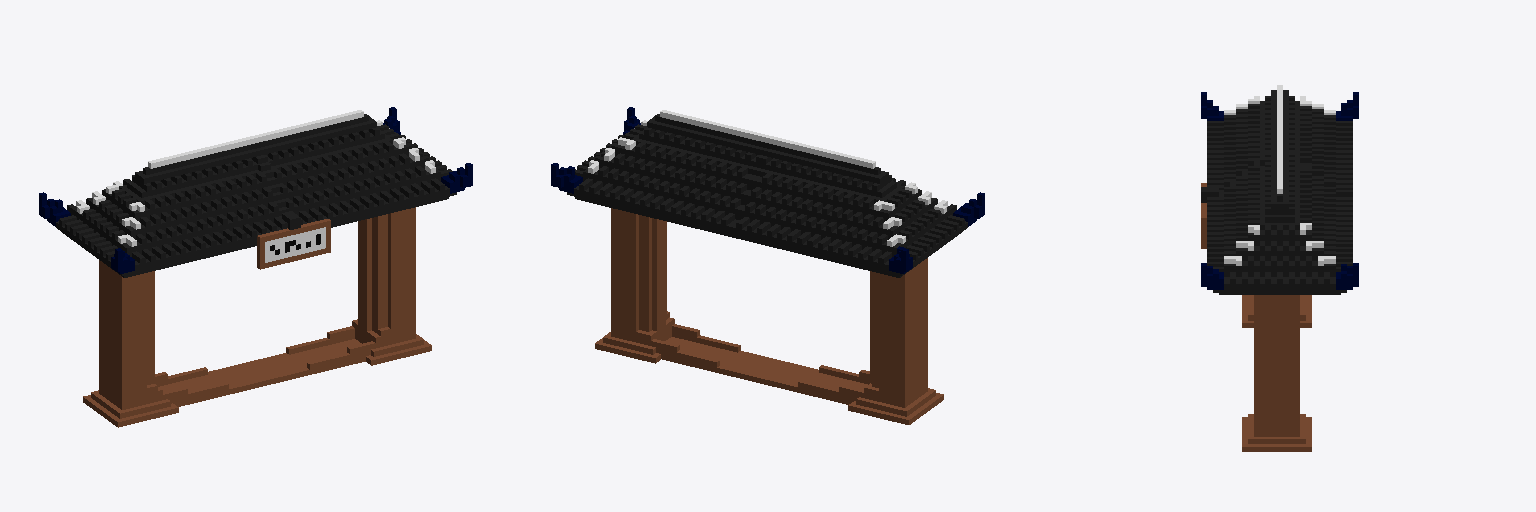
The picture shows the model from 3 angles: view 1: azimuth 30°, elevation 25°; view 2: azimuth 150°, elevation 25°; view 3: azimuth 270°, elevation 25°; orthographic projection.
Bounding box in the file's own units: 70 × 45 × 27.
1 materials, 1 textured.